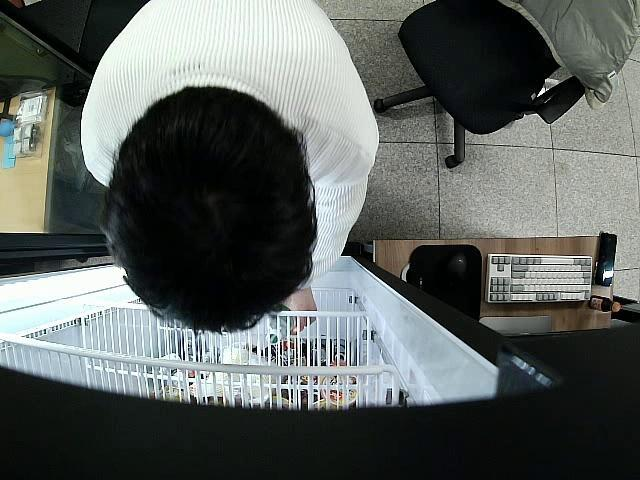18_trevi: (270, 308, 294, 346)
